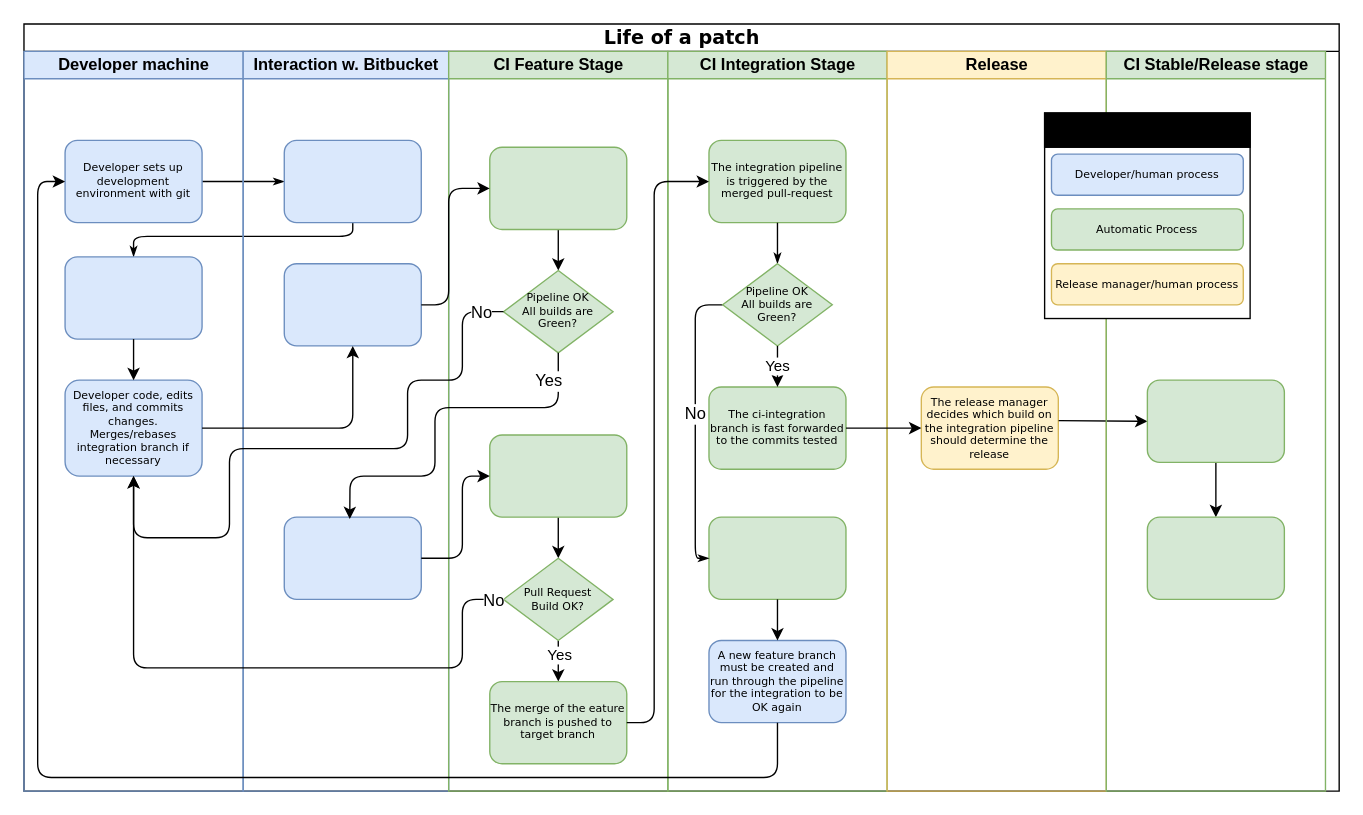
The diagram is 1363 pixels wide and 815 high, and some of its shapes have lost their labels. The shapes that lost their labels are listed below. From the top down, each one's centre as x and y in pixels, then its label:
the point at 1146,129: Roles
the point at 352,181: Developer pulls latest code from Bitbucket
the point at 557,187: A feature branch pipeline build is triggered on CI
the point at 133,297: Developer creates feature branch for his/her work
the point at 352,304: Developer pushes commits to feature branch on Bitbucket
the point at 1215,420: The tag describing the release is pushed to bitbucket The patch is released
the point at 557,475: A pull-request build is triggered on CI (builds the merged result)
the point at 352,557: Developer creates pull-request in Bitbuckit
the point at 777,557: Lamp turns red mail is sent to developers with changes since last green build
the point at 1215,557: The release is deployed to target environment(s)
